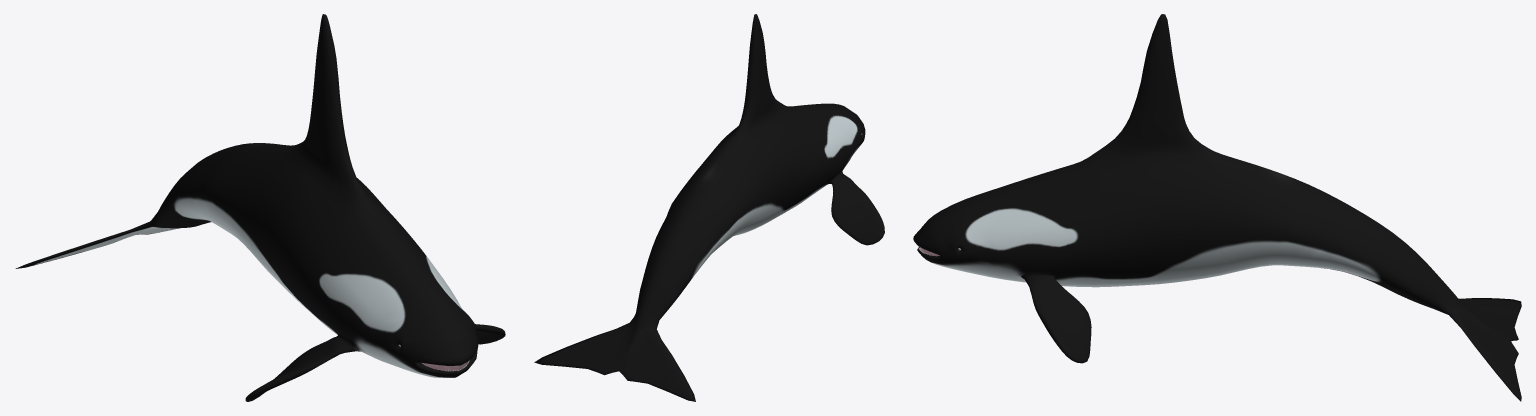
Rendered from whale.glb.
The picture shows the model from 3 angles, left to right: view 1: azimuth 30°, elevation 25°; view 2: azimuth 150°, elevation 25°; view 3: azimuth 270°, elevation 25°; orthographic projection. The views are drawn at different scales.
Visible parts, largest first — view 1: whale; view 2: whale; view 3: whale.
Part boxes in pixels (left/top/right/bottom): whale: left=15, top=14, right=505, bottom=401; whale: left=534, top=14, right=884, bottom=401; whale: left=913, top=14, right=1521, bottom=401.
Bounding box in the file's own units: 55.73 × 76.95 × 126.
4 materials, 1 textured.
